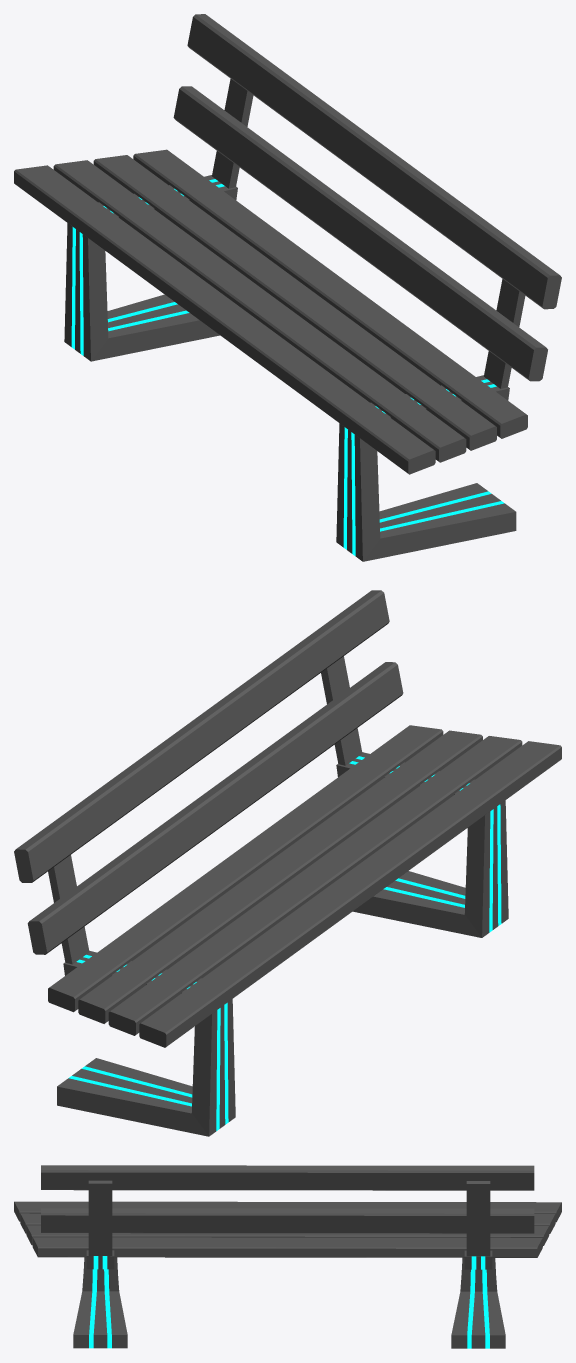
File: Bench_01.fbx
3 views of the same model, one above another, from view 1: azimuth 30°, elevation 25°; view 2: azimuth 150°, elevation 25°; view 3: azimuth 270°, elevation 25° (orthographic). The views are drawn at different scales.
Parts seen in each view (by area): view 1: Bench_01; view 2: Bench_01; view 3: Bench_01.
Part boxes in pixels (x1,y1,x2,y2): Bench_01: [14, 14, 561, 561]; Bench_01: [14, 590, 561, 1136]; Bench_01: [14, 1165, 561, 1348].
Size of the model in its own units: 235 by 340 by 905.
